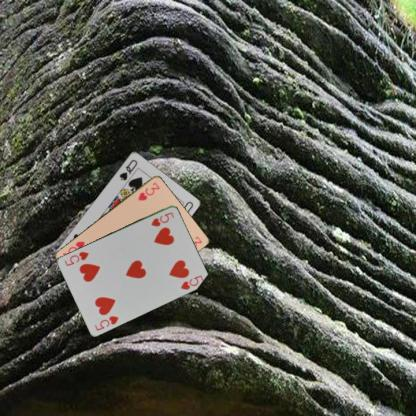3h: (136, 179, 161, 202)
5h: (92, 312, 119, 332), (148, 209, 176, 228)
Qs: (116, 156, 139, 182)
